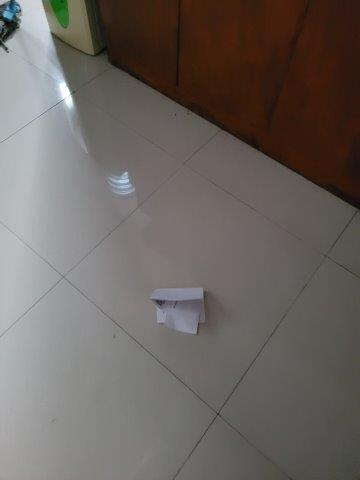kertas: (151, 288, 205, 333)
